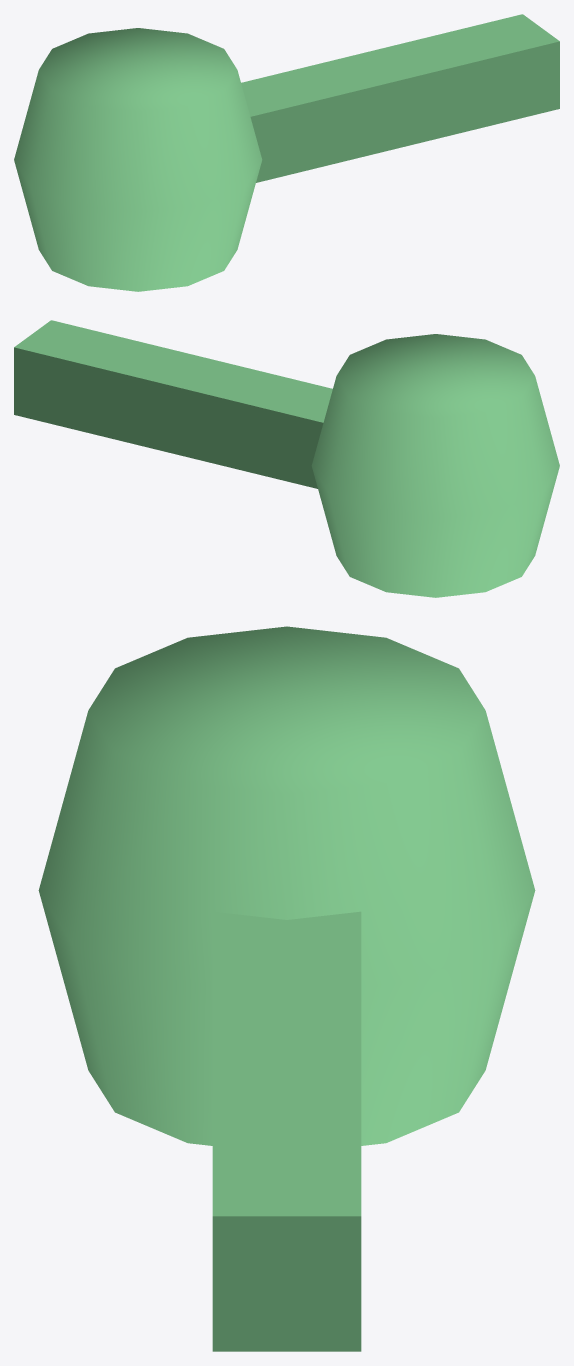
File: 05_hose.glb
3 renders of one model, top to bottom at view 1: azimuth 30°, elevation 25°; view 2: azimuth 150°, elevation 25°; view 3: azimuth 270°, elevation 25°, orthographic. The views are drawn at different scales.
Parts seen in each view (by area): view 1: green_05_hose; view 2: green_05_hose; view 3: green_05_hose.
Boxes of the visible parts, left/top/right/bottom form: green_05_hose: left=14, top=14, right=559, bottom=291; green_05_hose: left=14, top=320, right=559, bottom=597; green_05_hose: left=38, top=626, right=535, bottom=1351.
Size of the model in its own units: 0.475 by 0.162 by 0.2.
